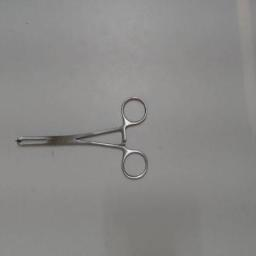Allis Tissue Forceps: (10, 92, 150, 186)
